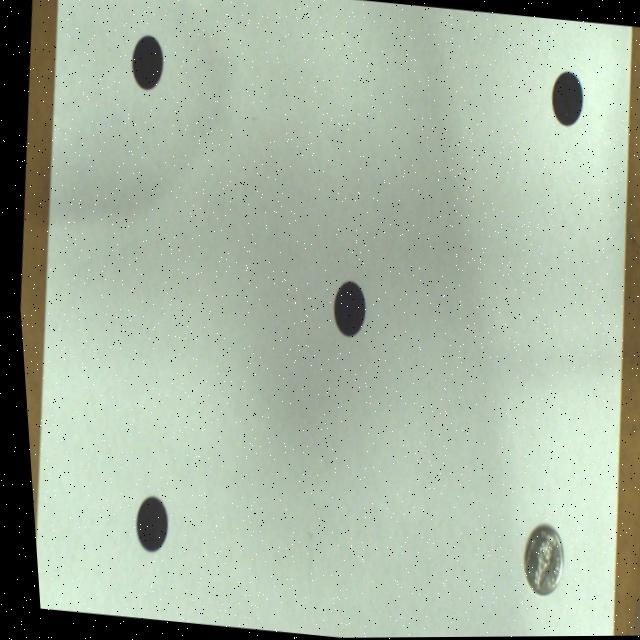space: (329, 281, 361, 338), (128, 496, 160, 551), (130, 35, 162, 90), (550, 72, 581, 127)
tail1bath: (516, 525, 555, 596)
